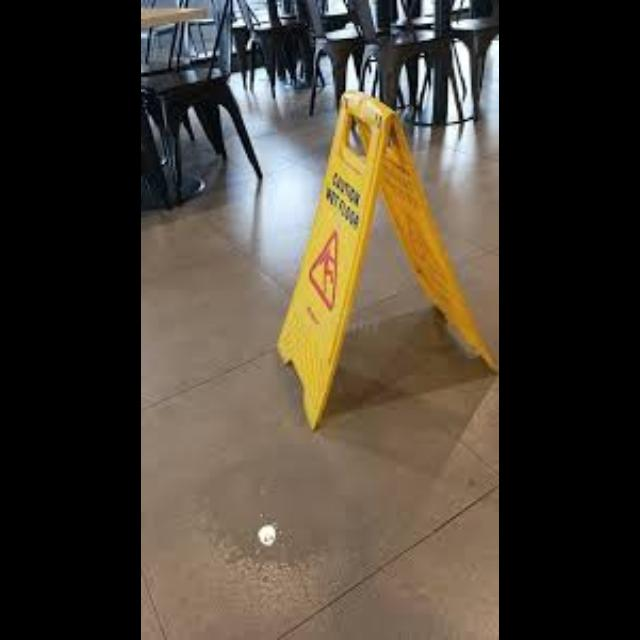tron truot: (278, 92, 493, 427)
